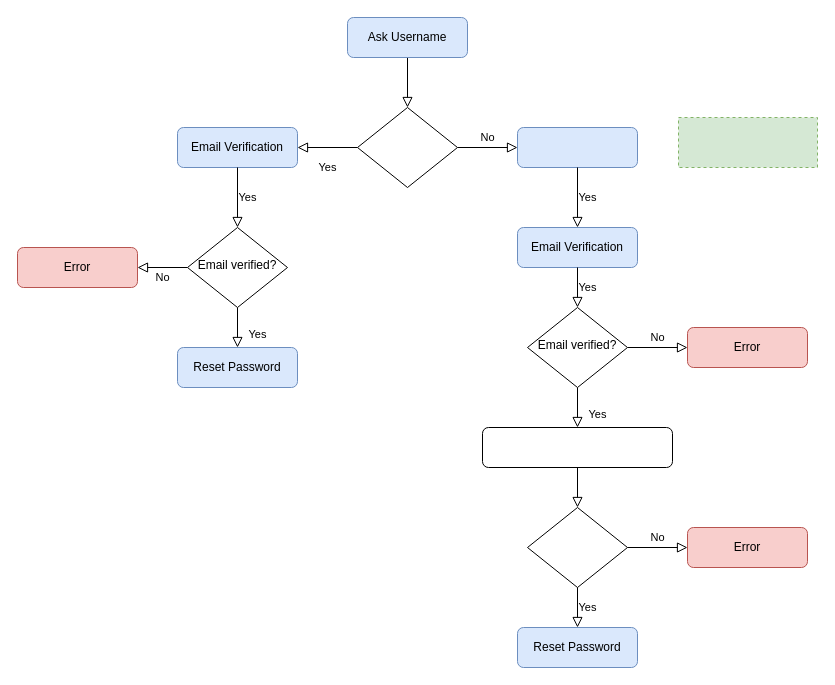
Some shapes in this 835 by 685 pixel diagram are drawn without their labels. The centre of each missing label's shape, as x and y in pixels:
AAD-UserReadUsingUserName: (577,447)
Ask Email address: (577,147)
ClaimTransformation for IsUsernameEmail: (748,142)
Username in email format?: (407,147)
verified.email = mail: (577,547)
